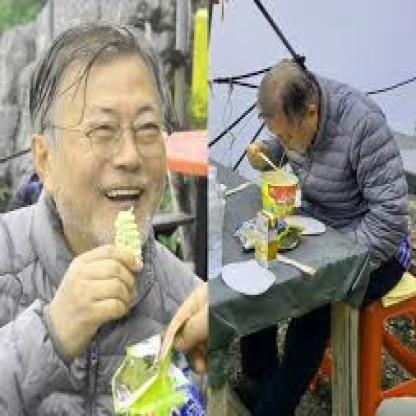Ramen: (257, 168, 305, 230)
